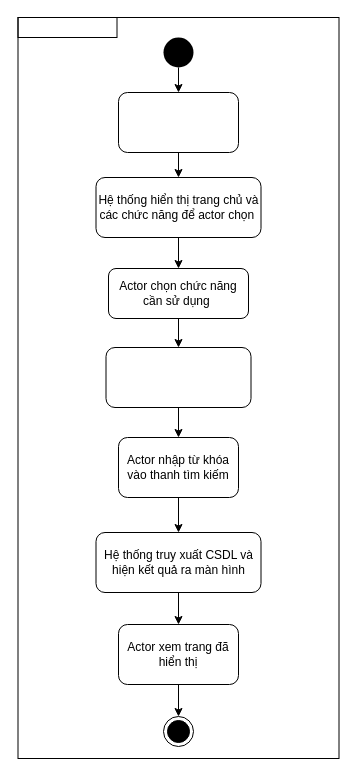
This 356x776 diagram has some shape labels left out. The centre of each missing label's shape, as x and y in pixels:
Activity Diagram: point 67,27
Actor đăng nhập vào hệ thống: point 178,122
Hệ thống hiển thị trang danh mục của chức năng đã chọn: point 178,377
